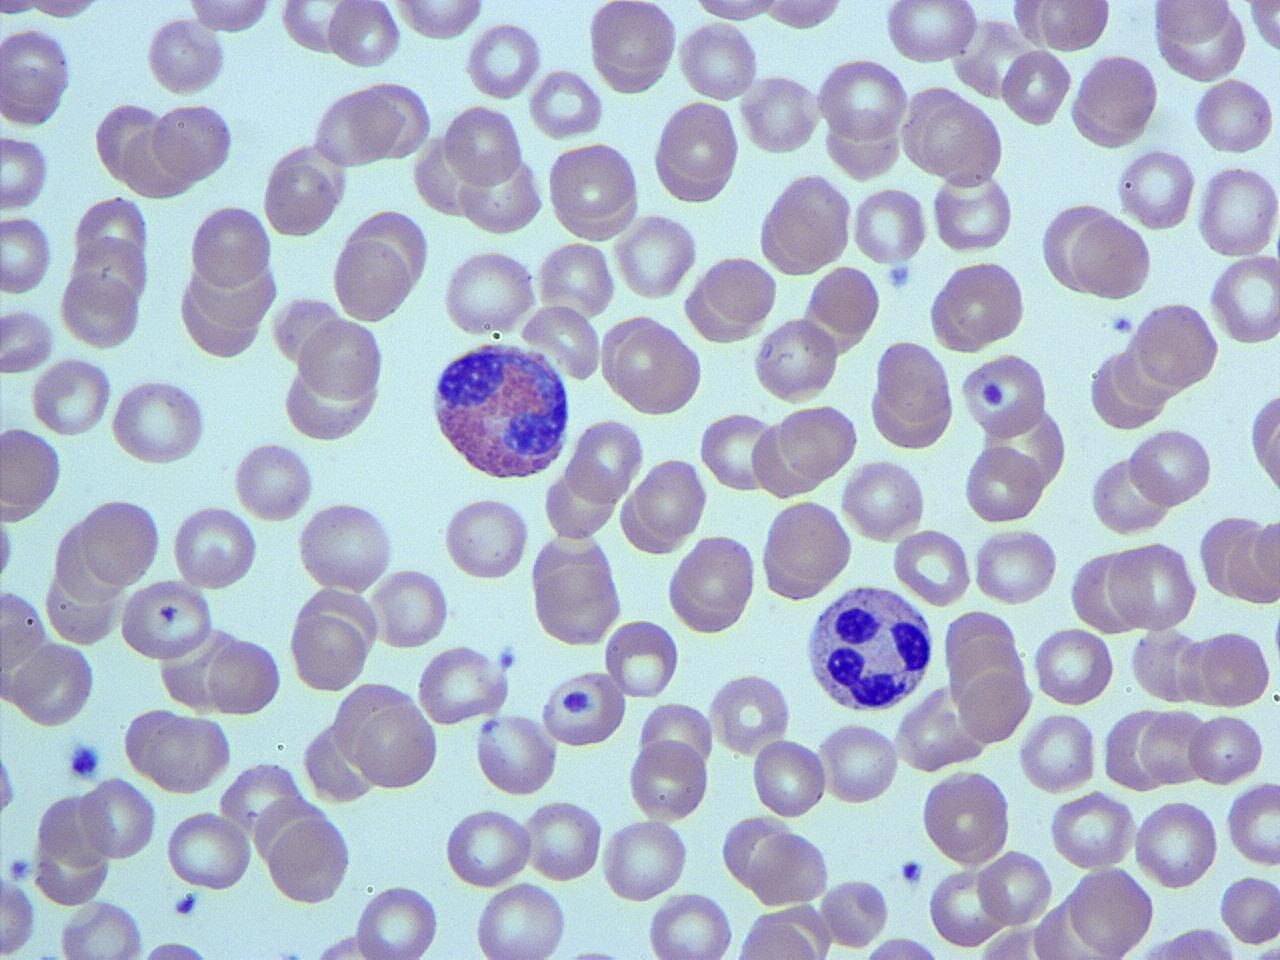Platelets: (65, 738, 103, 783), (5, 851, 35, 884), (884, 261, 914, 292), (897, 855, 926, 886), (170, 889, 199, 918), (1110, 311, 1136, 337), (268, 944, 308, 960), (496, 644, 517, 672)
RBC: (529, 530, 625, 648), (757, 168, 853, 274), (868, 339, 957, 450), (544, 138, 640, 242), (294, 501, 398, 597), (606, 320, 706, 418), (928, 257, 1030, 352), (663, 534, 758, 636), (920, 764, 1014, 866), (758, 498, 855, 596), (654, 96, 742, 204), (109, 374, 208, 468), (1106, 537, 1200, 632), (587, 1, 678, 98), (440, 247, 537, 338), (1069, 51, 1159, 149), (1065, 865, 1157, 957), (1194, 161, 1278, 260), (957, 350, 1049, 440), (838, 456, 928, 546), (170, 502, 259, 594), (816, 56, 910, 143), (1134, 297, 1220, 392), (1133, 796, 1219, 890), (472, 878, 570, 960), (600, 816, 690, 905), (118, 577, 212, 663), (441, 493, 530, 583), (751, 315, 840, 404), (415, 642, 508, 728), (268, 814, 353, 908), (296, 315, 385, 403), (454, 153, 546, 238), (472, 710, 560, 798), (163, 808, 254, 893), (310, 86, 402, 170), (612, 212, 698, 301), (444, 804, 533, 890), (10, 640, 97, 728), (708, 669, 792, 758), (1128, 424, 1214, 510), (354, 703, 438, 792), (189, 200, 273, 289), (971, 524, 1060, 608), (440, 101, 526, 188), (0, 23, 74, 124), (260, 147, 339, 241), (80, 496, 159, 588), (151, 98, 237, 183), (959, 441, 1045, 525), (540, 668, 628, 750), (330, 235, 412, 323), (1071, 214, 1153, 303), (78, 772, 158, 862), (624, 738, 710, 822), (370, 564, 451, 652), (1117, 144, 1197, 233), (1039, 201, 1115, 294), (930, 169, 1014, 254), (1032, 624, 1116, 709), (739, 71, 821, 156), (1016, 709, 1099, 795), (818, 720, 900, 807), (922, 98, 1003, 186), (1048, 790, 1136, 870), (567, 415, 644, 507), (1089, 452, 1170, 537), (233, 439, 314, 524), (1208, 250, 1280, 347), (678, 18, 760, 103), (1193, 73, 1275, 157), (57, 268, 143, 349), (750, 826, 831, 910), (535, 238, 618, 320), (144, 16, 226, 99), (29, 355, 113, 436), (750, 736, 829, 821), (850, 182, 928, 267), (353, 882, 439, 960), (288, 610, 370, 692), (892, 524, 972, 608), (698, 408, 776, 494), (206, 632, 283, 718), (603, 616, 681, 700), (524, 798, 602, 882), (150, 713, 231, 794), (464, 19, 543, 101), (975, 845, 1054, 927), (928, 866, 1006, 950), (0, 422, 65, 521), (525, 301, 603, 383), (357, 78, 432, 162), (634, 454, 708, 541), (882, 1, 982, 64), (956, 666, 1034, 745), (1186, 710, 1266, 788), (778, 402, 856, 481), (645, 890, 733, 960), (542, 460, 618, 541), (822, 107, 904, 181), (1000, 46, 1072, 129), (1139, 706, 1211, 788), (93, 99, 162, 184), (1199, 628, 1271, 709), (700, 252, 778, 326), (56, 897, 145, 960), (528, 68, 606, 137), (818, 874, 889, 950), (326, 0, 402, 70), (1224, 778, 1280, 868), (277, 0, 363, 57), (0, 212, 55, 298), (1218, 872, 1280, 947), (388, 0, 490, 42), (0, 584, 47, 674), (732, 914, 822, 960), (0, 131, 53, 210), (1125, 925, 1241, 960), (1036, 0, 1110, 54), (0, 304, 54, 376), (1246, 386, 1280, 498), (1151, 0, 1235, 44), (182, 0, 276, 35), (0, 868, 36, 954), (758, 0, 850, 33), (307, 932, 410, 960), (1250, 510, 1280, 597), (688, 0, 792, 25), (853, 934, 949, 960), (9, 0, 114, 22), (132, 936, 224, 960), (1246, 0, 1280, 56), (0, 744, 19, 824)
WBC: (426, 336, 574, 486), (800, 580, 940, 715), (530, 534, 626, 644), (922, 768, 1018, 868)
